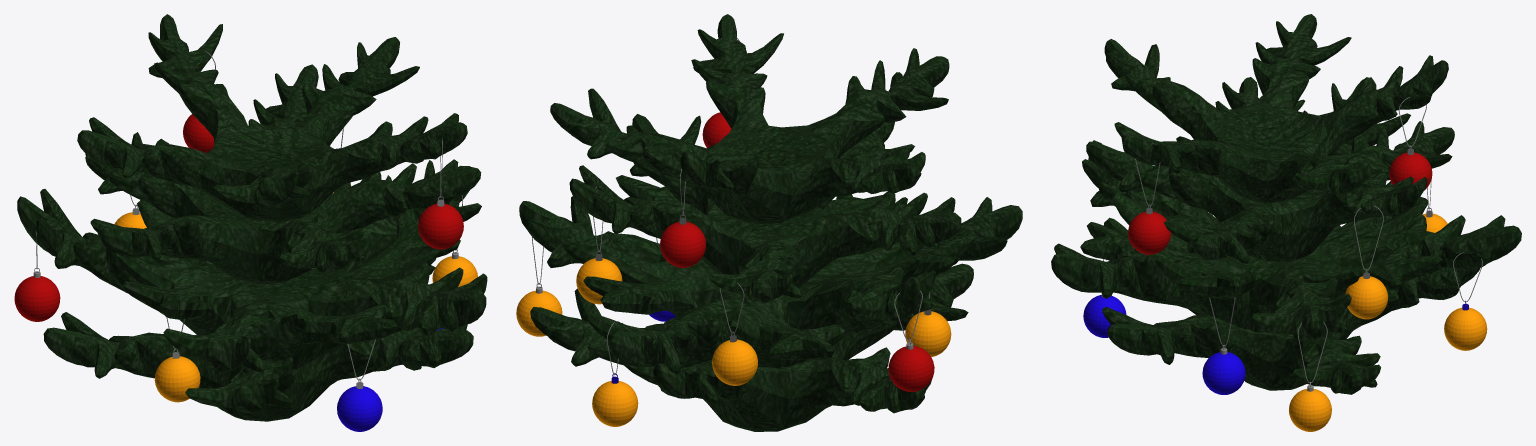
File: Arbol_navidaTres.obj
The picture shows the model from 3 angles, left to right: view 1: azimuth 30°, elevation 25°; view 2: azimuth 150°, elevation 25°; view 3: azimuth 270°, elevation 25°; orthographic projection. The views are drawn at different scales.
Visible parts, largest first — view 1: Christmas_Tree08, Christmas_Tree04, Christmas_Tree09, Christmas_Tree11, ball04, ball12, ball32, ball42, ball08, ball24; view 2: Christmas_Tree08, Christmas_Tree04, Christmas_Tree09, Christmas_Tree11, ball08, ball10, ball40, ball04, ball42, ball24, ball26, ball12; view 3: Christmas_Tree08, Christmas_Tree04, Christmas_Tree09, Christmas_Tree11, ball24, ball14, ball10, ball12, ball26, ball08, ball32.
Part boxes in pixels (x1,y1,x2,y2): Christmas_Tree08: [17, 138, 487, 372]; Christmas_Tree04: [77, 14, 467, 221]; Christmas_Tree09: [85, 64, 481, 283]; Christmas_Tree11: [43, 265, 473, 421]; ball04: [14, 276, 60, 321]; ball12: [418, 203, 463, 249]; ball32: [337, 386, 382, 431]; ball42: [154, 356, 200, 402]; ball08: [183, 114, 214, 152]; ball24: [432, 256, 477, 286]; Christmas_Tree08: [519, 175, 1022, 374]; Christmas_Tree04: [550, 14, 949, 224]; Christmas_Tree09: [569, 114, 961, 302]; Christmas_Tree11: [530, 258, 973, 431]; ball08: [660, 221, 705, 267]; ball10: [592, 381, 638, 426]; ball40: [712, 339, 757, 385]; ball04: [888, 346, 934, 391]; ball42: [905, 311, 951, 356]; ball24: [516, 290, 562, 336]; ball26: [576, 258, 622, 304]; ball12: [702, 112, 731, 147]; Christmas_Tree08: [1051, 77, 1521, 340]; Christmas_Tree04: [1104, 14, 1448, 203]; Christmas_Tree09: [1086, 77, 1454, 263]; Christmas_Tree11: [1102, 217, 1480, 394]; ball24: [1289, 389, 1331, 431]; ball14: [1202, 352, 1245, 394]; ball10: [1444, 307, 1487, 350]; ball12: [1128, 211, 1170, 254]; ball26: [1345, 276, 1387, 319]; ball08: [1389, 152, 1432, 190]; ball32: [1083, 295, 1126, 337].
Bounding box in the file's own units: 13.32 × 9.84 × 13.31.
6 materials, 4 textured.
